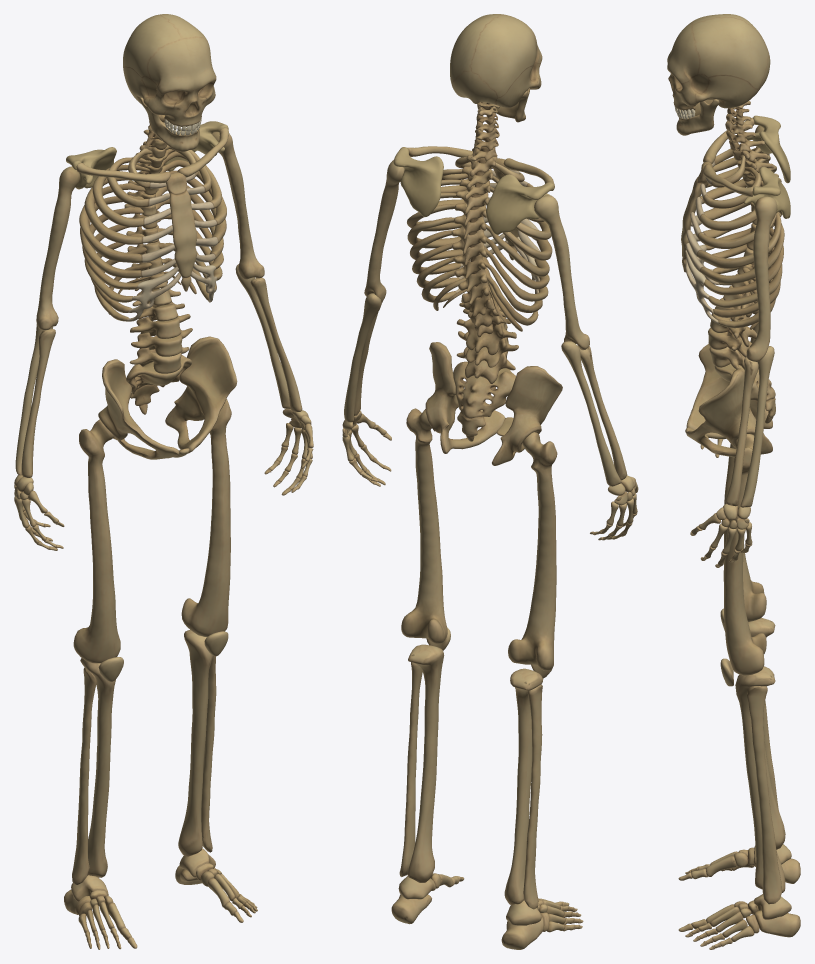
Rendered from ecorche_-_skeleton.glb.
The picture shows the model from 3 angles, left to right: view 1: azimuth 30°, elevation 25°; view 2: azimuth 150°, elevation 25°; view 3: azimuth 270°, elevation 25°; orthographic projection.
Parts seen in each view (by area): view 1: Object_3, Object_4; view 2: Object_3, Object_4; view 3: Object_3, Object_4.
Boxes of the visible parts, left/top/right/bottom form: Object_3: left=14, top=14, right=226, bottom=949; Object_4: left=14, top=119, right=313, bottom=922; Object_3: left=407, top=14, right=638, bottom=949; Object_4: left=342, top=146, right=632, bottom=931; Object_3: left=667, top=14, right=800, bottom=933; Object_4: left=678, top=144, right=800, bottom=949.
Bounding box in the file's own units: 22.56 × 66.72 × 9.05.
Materials: 1 (1 with a texture image).
